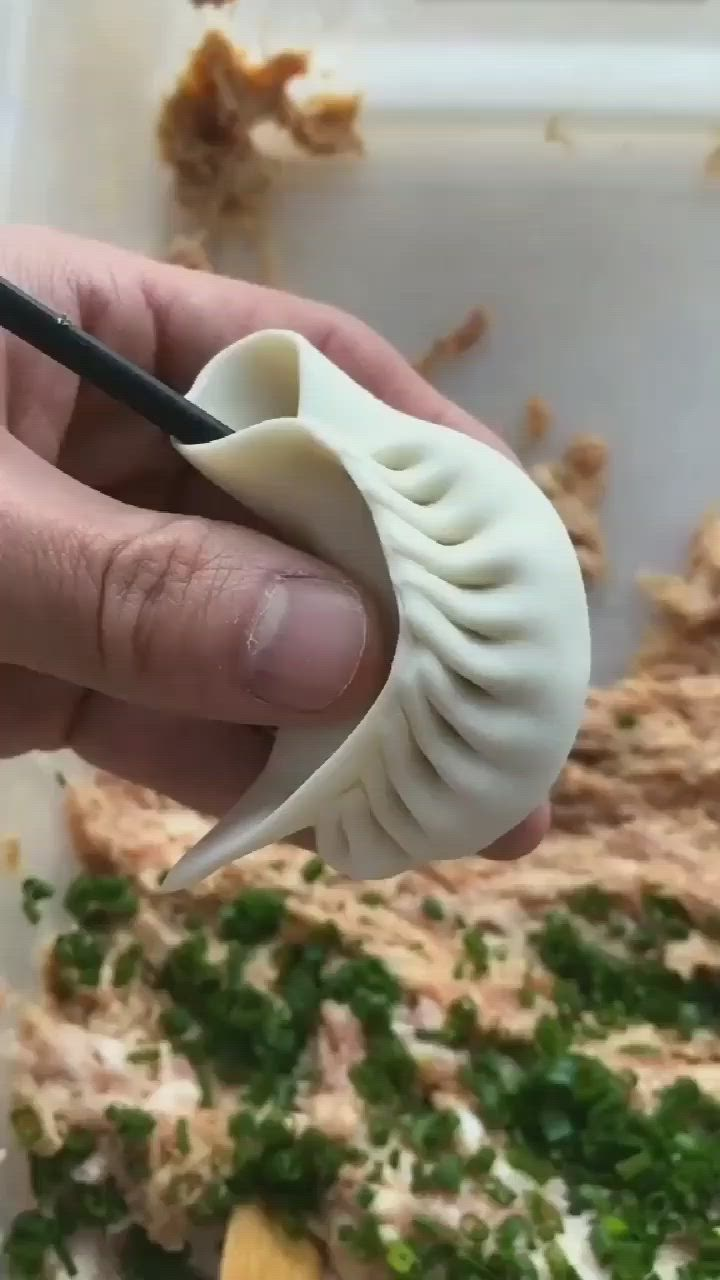momo: (153, 330, 590, 907)
